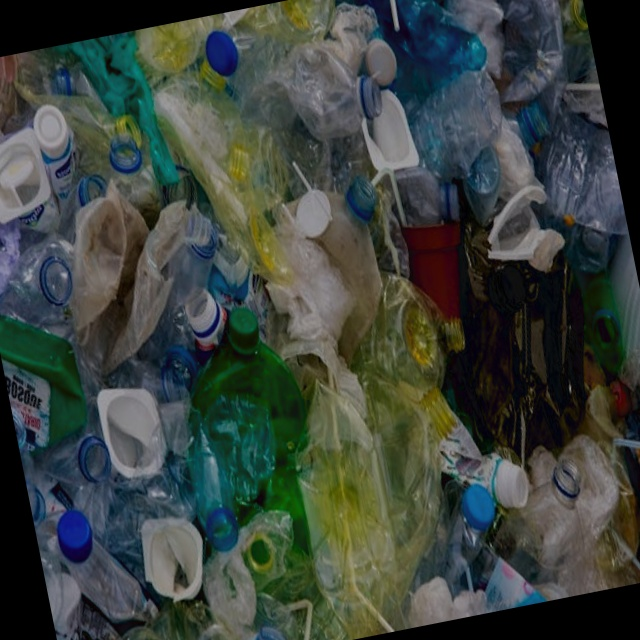algae_bloom: (187, 307, 356, 640)
contaminated_water: (13, 13, 627, 627)
turbid_water: (0, 0, 465, 640)
